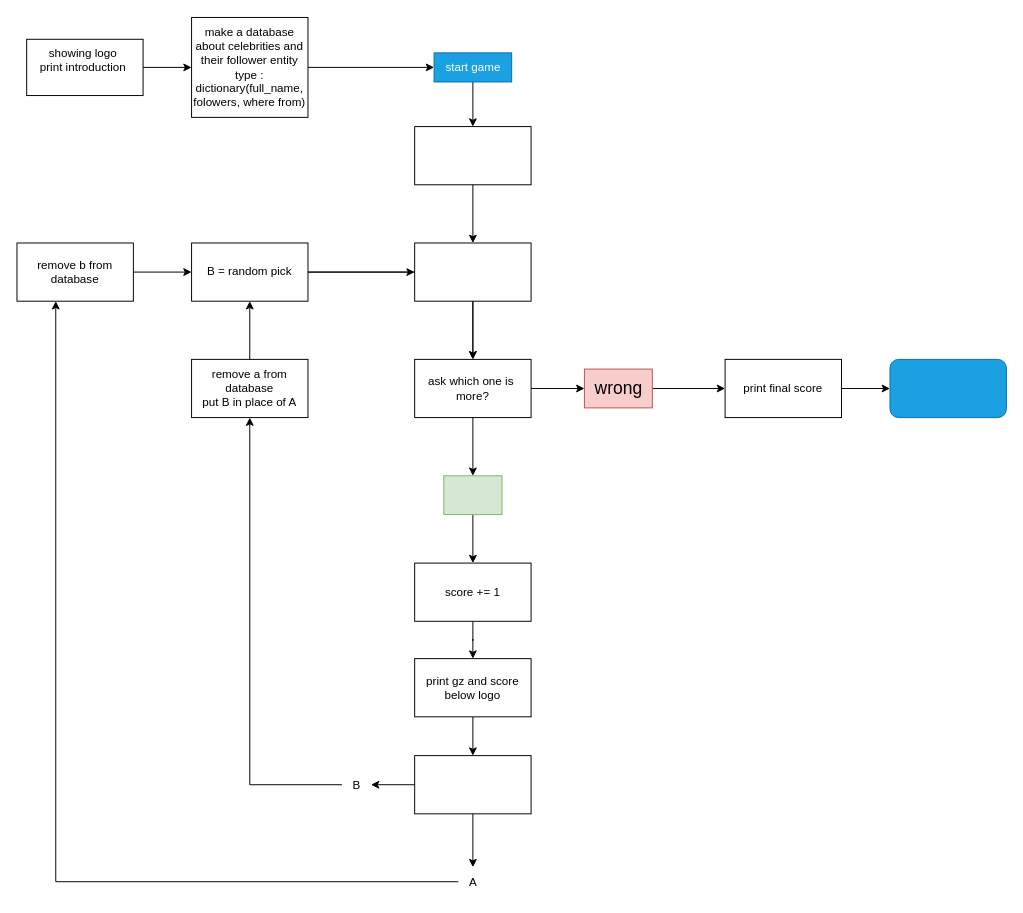
This 1023x913 diagram has some shape labels left out. The shapes that lost their labels are listed below. From the top down, each one's box as (x1, y1, x2, y2) in pixels, then its label:
(414, 126, 531, 185): pick A and B from database randomly
(414, 242, 531, 301): print info A and B
(889, 358, 1006, 418): end
(443, 475, 502, 515): right
(414, 755, 531, 814): which one was true? a or b
